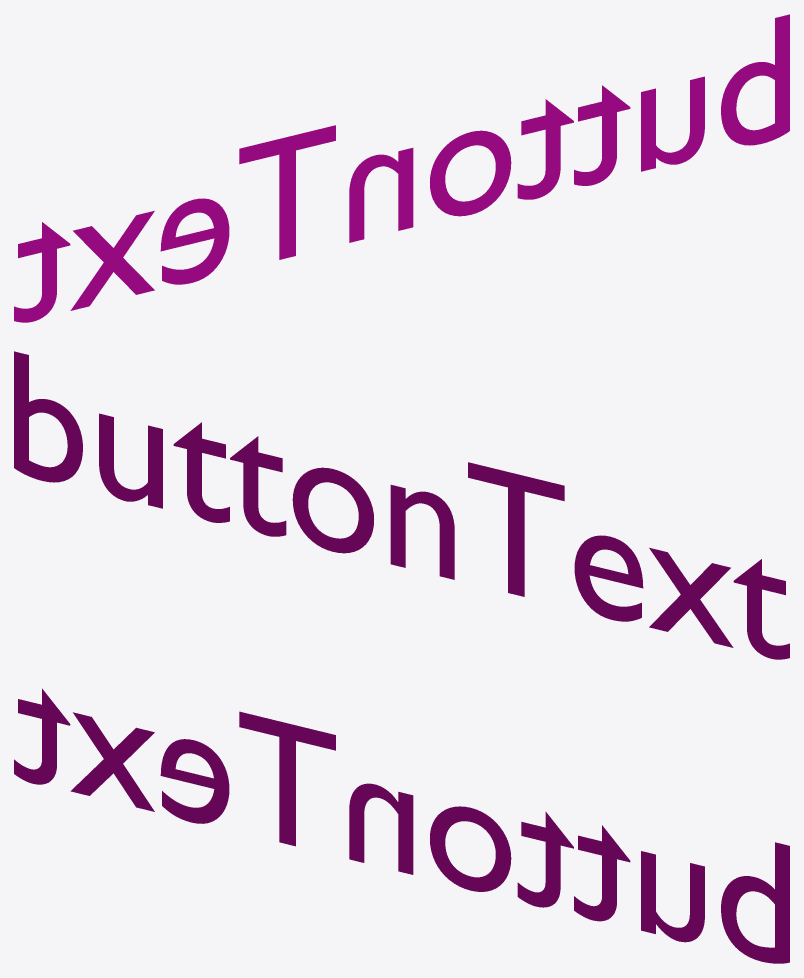
The model's file is testButtonText.obj.
The picture shows the model from 3 angles, top to bottom: view 1: azimuth 30°, elevation 25°; view 2: azimuth 150°, elevation 25°; view 3: azimuth 330°, elevation 25°; orthographic projection.
Visible parts, largest first — view 1: testButtonText; view 2: testButtonText; view 3: testButtonText.
Boxes of the visible parts, bbox=[...] form: testButtonText: bbox=[14, 14, 789, 322]; testButtonText: bbox=[14, 351, 789, 659]; testButtonText: bbox=[14, 688, 789, 963].
Bounding box in the file's own units: 4.57 × 0.691 × 0.
